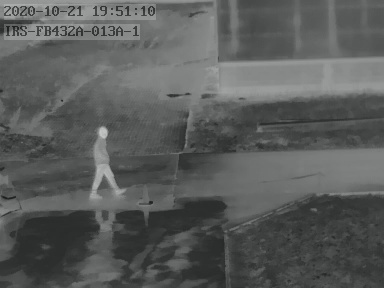person: (90, 125, 123, 197)
